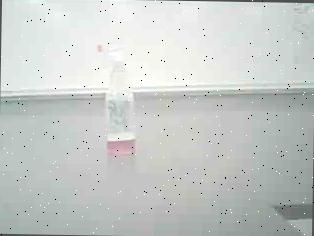hazard: (92, 42, 144, 158)
